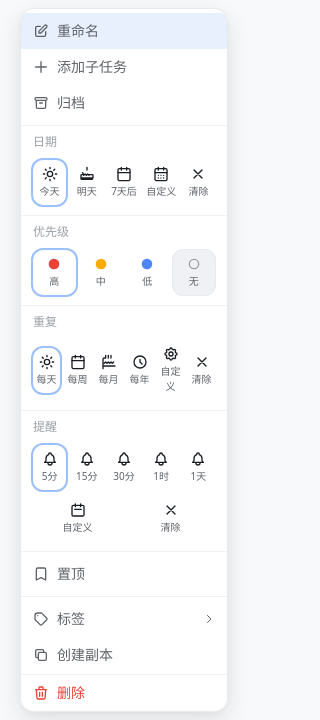
Test case: TaskContextMenu v1.43.0 信息架构 › 删除确认说明包含移入回收站可恢复
Click the button with test id "ctx-delete": (124, 693) [21, 675, 227, 711]
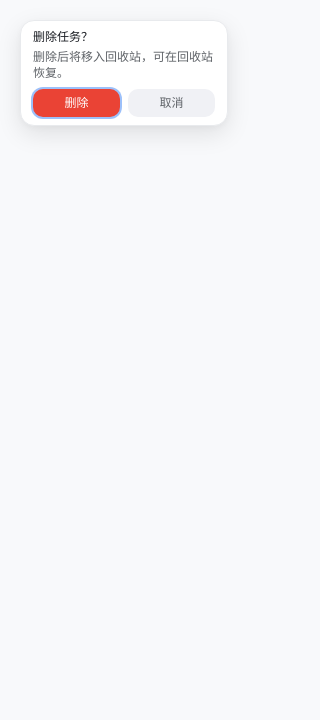
Now the element with test id "ctx-delete-confirm" is shown, box [33, 29, 215, 117]
Now the text "删除任务？" is shown, box [33, 28, 93, 45]
Now the text "删除后将移入回收站，可在回收站恢复。" is shown, box [33, 49, 215, 81]
